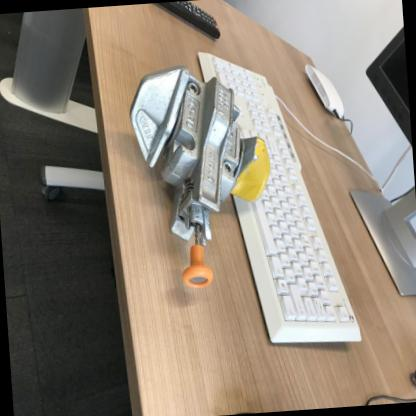Twistlock: (119, 54, 281, 302)
